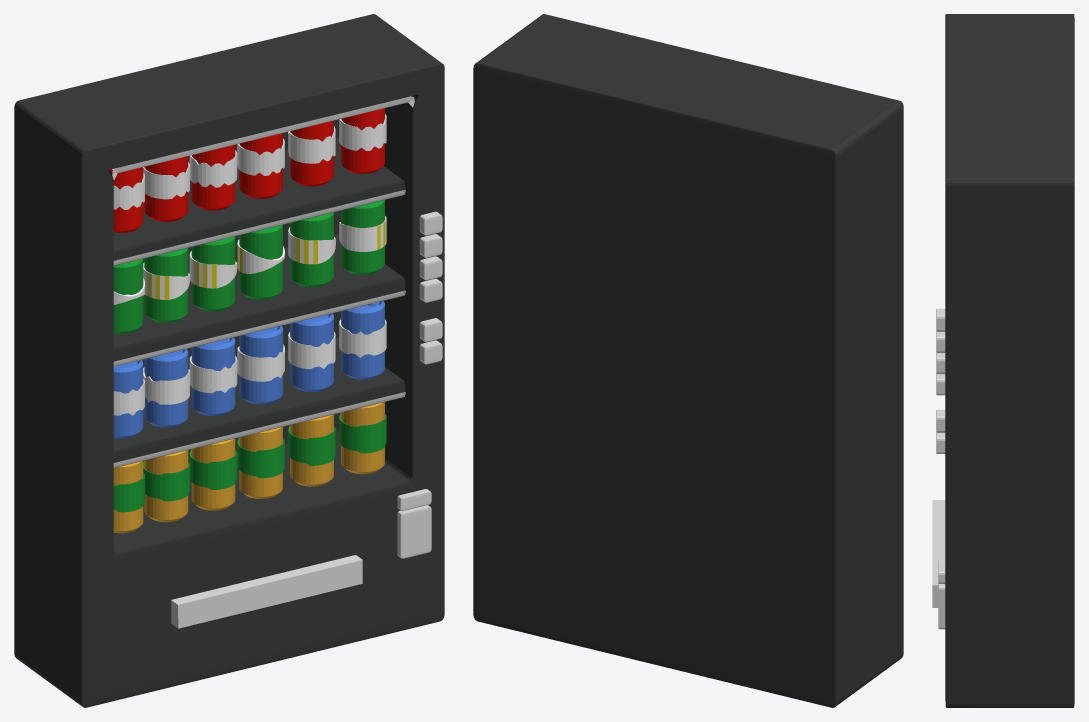
Rendered from otomat3 1.fbx.
3 views of the same model, side by side, from view 1: azimuth 30°, elevation 25°; view 2: azimuth 150°, elevation 25°; view 3: azimuth 270°, elevation 25° (orthographic). The views are drawn at different scales.
Visible parts, largest first — view 1: Cube.022, Cylinder.044, Cylinder.043, Cylinder.009, Cylinder.004, Cube.039, Cube.023, Cube.042, Cube.040, Cube.025, Cube.041; view 2: Cube.022; view 3: Cube.022, Cube.023, Cube.041, Cube.025, Cube.040, Cube.042.
Part boxes in pixels (x1,y1,x2,y2): Cube.022: (14,14,444,707); Cylinder.044: (113,301,386,438); Cylinder.043: (113,200,386,333); Cylinder.009: (113,402,386,533); Cylinder.004: (108,108,386,232); Cube.039: (112,96,414,467); Cube.023: (171,555,362,628); Cube.042: (397,505,431,558); Cube.040: (419,278,442,364); Cube.025: (419,234,442,342); Cube.041: (419,211,442,280); Cube.022: (473,14,903,707); Cube.022: (945,14,1074,707); Cube.023: (932,500,945,607); Cube.041: (936,308,945,374); Cube.025: (936,332,945,432); Cube.040: (936,374,945,453); Cube.042: (938,582,945,629).
Bounding box in the file's own units: 395 × 581 × 141.
